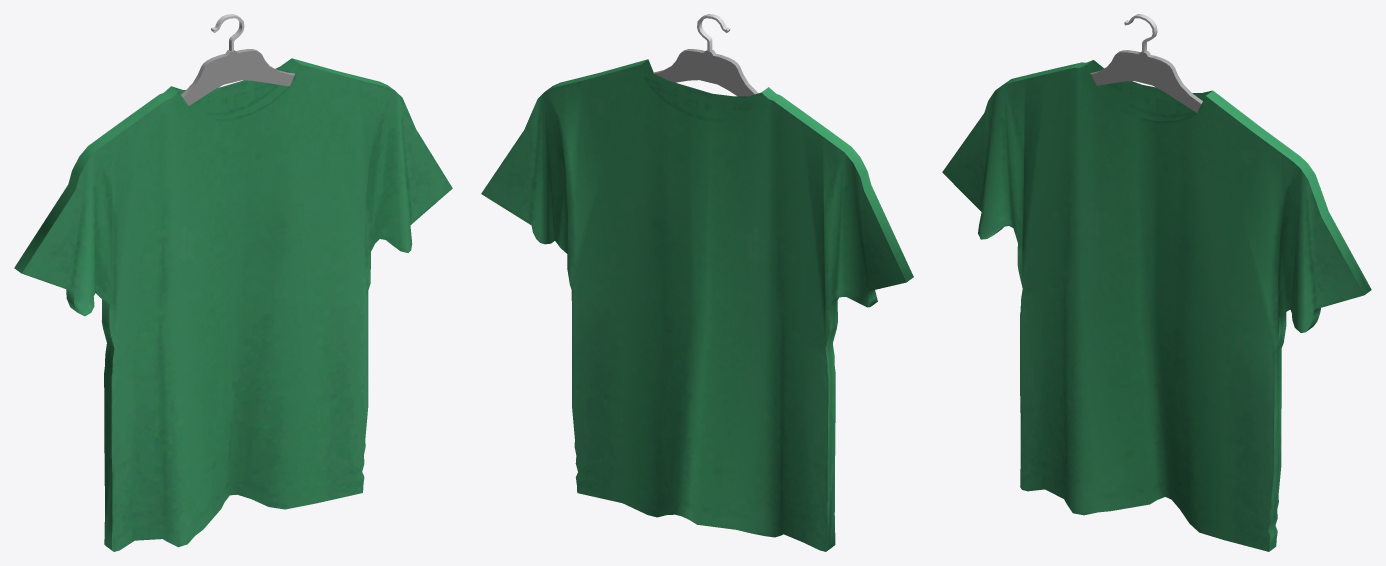
Rendered from TShirt_Hanging_Green.fbx.
3 views of the same model, side by side, from view 1: azimuth 30°, elevation 25°; view 2: azimuth 150°, elevation 25°; view 3: azimuth 330°, elevation 25° (orthographic).
Visible parts, largest first — view 1: TShirt, Hanger; view 2: TShirt, Hanger; view 3: TShirt, Hanger.
Boxes of the visible parts, x1,y1,x2,y2 form: TShirt: (14,58,452,551); Hanger: (181,49,294,105); TShirt: (481,59,913,551); Hanger: (653,49,758,96); TShirt: (942,60,1371,551); Hanger: (1090,50,1202,112).
Size of the model in its own units: 0.8189 by 0.9312 by 0.094.
